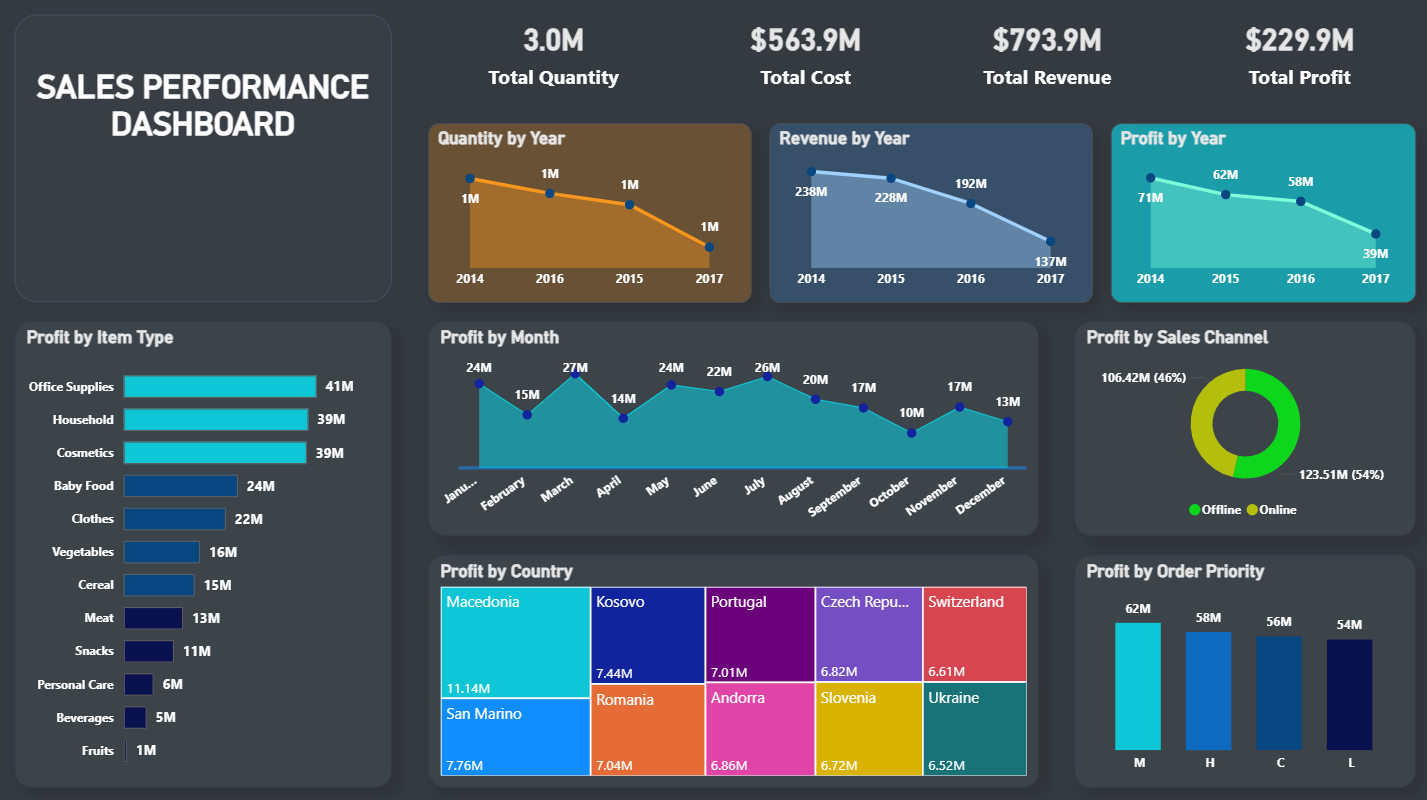

This screenshot's page, from the dashboard's own definition file:
{"tool":"powerbi","page":{"name":"SALES PERFORMANCE DASHBOARD","canvas":[1280,720],"ordinal":0},"visuals":[{"type":"barChart","title":"Profit by Item Type","fields":{"Category":["Europe Sales Records.Item Type"],"Y":["Sum(Europe Sales Records.Total Profit)"]},"box":[16,288,336,416],"z":0},{"type":"columnChart","title":"Profit by Order Priority","fields":{"Category":["Europe Sales Records.Order Priority"],"Y":["Sum(Europe Sales Records.Total Pro)"]},"box":[960,496,304,208],"z":3000},{"type":"donutChart","title":"Profit by Sales Channel","fields":{"Y":["Sum(Europe Sales Records.Total Profit)"],"Category":["Europe Sales Records.Sales Channel"]},"box":[960,288,304,192],"z":4000},{"type":"textbox","box":[16,16,336,256],"z":5000},{"type":"lineChart","title":"Profit by Month","fields":{"Category":["Europe Sales Records.Order Date.Variation.Date Hierarchy.Month"],"Y":["Sum(Europe Sales Records.Total Pro)"]},"box":[384,288,544,192],"z":6000},{"type":"areaChart","title":"Profit by Year","fields":{"Category":["Europe Sales Records.Year"],"Y":["Sum(Europe Sales Records.Total Profit)"]},"box":[992,112,272,160],"z":7000},{"type":"areaChart","title":"Revenue by Year","fields":{"Category":["Europe Sales Records.Year"],"Y":["Sum(Europe Sales Records.Total Revenue)"]},"box":[688,112,288,160],"z":8000},{"type":"areaChart","title":"Quantity by Year","fields":{"Category":["Europe Sales Records.Year"],"Y":["Sum(Europe Sales Records.Quantity)"]},"box":[384,112,288,160],"z":9000},{"type":"card","title":"Total Profit by Year","fields":{"Values":["Europe Sales Records.TOTAL-PROFIT"]},"box":[1056,0,208,96],"z":10000},{"type":"card","title":"Total Profit by Year","fields":{"Values":["Europe Sales Records.REVENUE"]},"box":[832,0,208,96],"z":11000},{"type":"card","title":"Total Profit by Year","fields":{"Values":["Europe Sales Records.QUANTIITY"]},"box":[384,0,224,96],"z":12000},{"type":"card","title":"Total Profit by Year","fields":{"Values":["Europe Sales Records.COST"]},"box":[624,0,192,96],"z":13000},{"type":"treemap","title":"Profit by Country","fields":{"Values":["Sum(Europe Sales Records.Total Pro)"],"Group":["Europe Sales Records.Country"]},"box":[384,496,544,208],"z":14000}]}

Visuals, with their boxes in screenshot pixels (x1, y1, x2, y2), scaled from the page's 1280x720 canvas onto the 1427x800 screenshot:
"Profit by Item Type" barChart: {"left": 18, "top": 320, "right": 392, "bottom": 782}
"Profit by Order Priority" columnChart: {"left": 1070, "top": 551, "right": 1409, "bottom": 782}
"Profit by Sales Channel" donutChart: {"left": 1070, "top": 320, "right": 1409, "bottom": 533}
textbox: {"left": 18, "top": 18, "right": 392, "bottom": 302}
"Profit by Month" lineChart: {"left": 428, "top": 320, "right": 1035, "bottom": 533}
"Profit by Year" areaChart: {"left": 1106, "top": 124, "right": 1409, "bottom": 302}
"Revenue by Year" areaChart: {"left": 767, "top": 124, "right": 1088, "bottom": 302}
"Quantity by Year" areaChart: {"left": 428, "top": 124, "right": 749, "bottom": 302}
"Total Profit by Year" card: {"left": 1177, "top": 0, "right": 1409, "bottom": 107}
"Total Profit by Year" card: {"left": 928, "top": 0, "right": 1159, "bottom": 107}
"Total Profit by Year" card: {"left": 428, "top": 0, "right": 678, "bottom": 107}
"Total Profit by Year" card: {"left": 696, "top": 0, "right": 910, "bottom": 107}
"Profit by Country" treemap: {"left": 428, "top": 551, "right": 1035, "bottom": 782}
